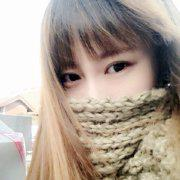WRONG: (48, 36, 166, 154)
